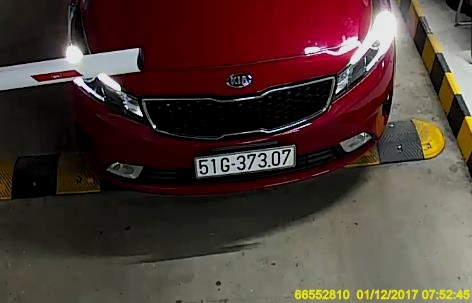plate: (195, 147, 298, 174)
